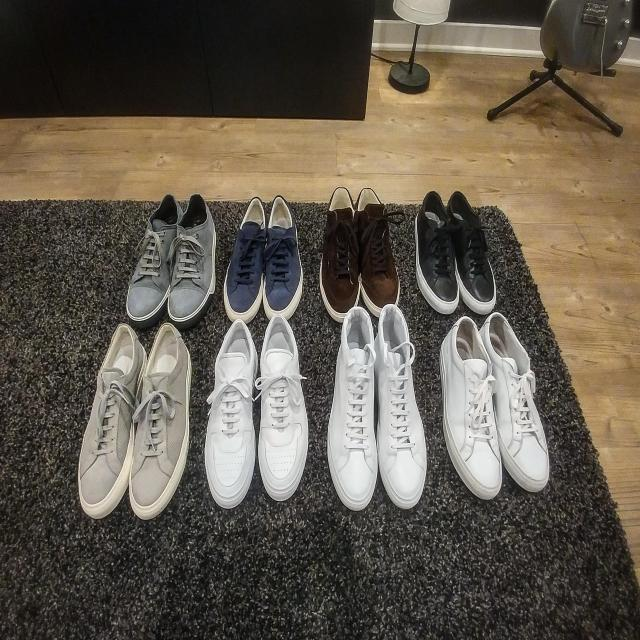shoe: (68, 316, 146, 540), (480, 311, 567, 504), (124, 312, 194, 528), (437, 316, 511, 511), (255, 311, 320, 515), (375, 302, 433, 518), (201, 316, 261, 520), (324, 300, 380, 515), (161, 177, 219, 331), (312, 168, 364, 333), (353, 170, 408, 325), (120, 186, 177, 327), (444, 182, 501, 322), (412, 182, 464, 324), (256, 188, 306, 334), (220, 188, 266, 329)
